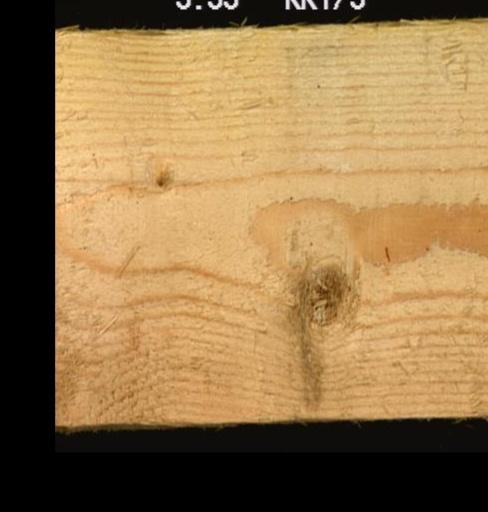small_knot: (150, 160, 177, 193)
